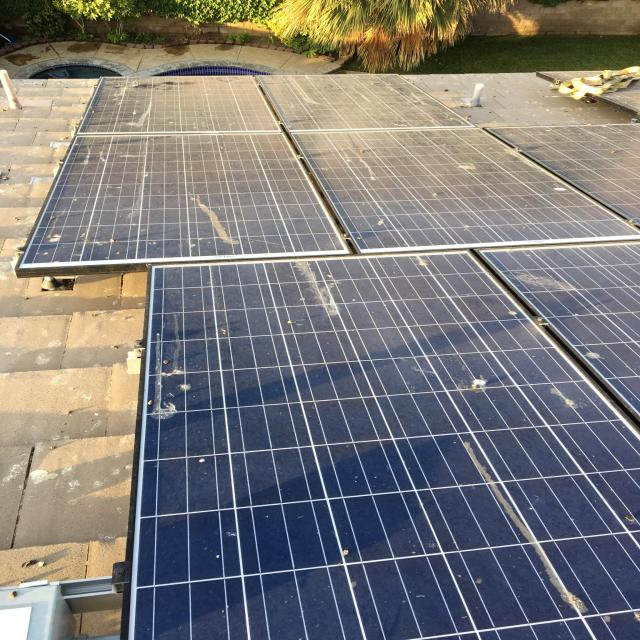dust-solar-panel: (47, 73, 640, 640)
